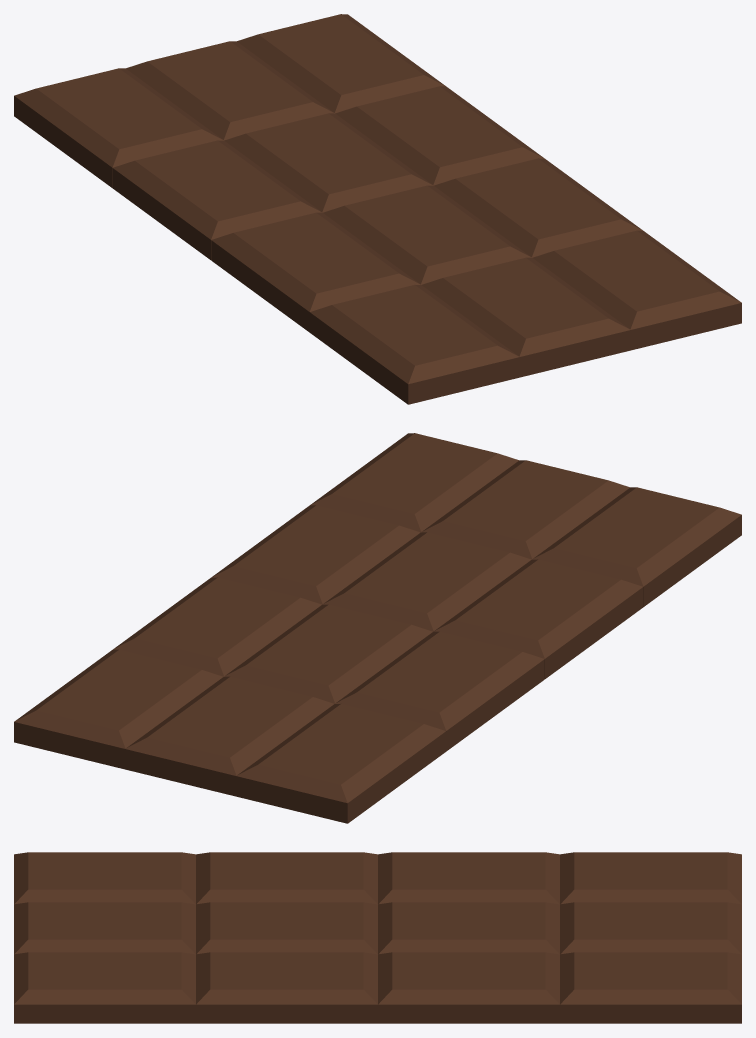
The model's file is Chocolate.fbx.
3 views of the same model, one above another, from view 1: azimuth 30°, elevation 25°; view 2: azimuth 150°, elevation 25°; view 3: azimuth 270°, elevation 25° (orthographic). The views are drawn at different scales.
Visible parts, largest first — view 1: Cube.006, Cube.005, Cube.004, Cube.007, Cube.001, Cube.012, Cube.008, Cube.002, Cube.011, Cube.003, Cube.009, Cube.010; view 2: Cube.012, Cube.010, Cube.011, Cube.001, Cube.006, Cube.007, Cube.002, Cube.008, Cube.005, Cube.004, Cube.009, Cube.003; view 3: Cube.002, Cube.005, Cube.008, Cube.011, Cube.004, Cube.010, Cube.001, Cube.003, Cube.006, Cube.007, Cube.009, Cube.012.
Boxes of the visible parts, x1,y1,x2,y2 form: Cube.006: [309, 285, 519, 404]; Cube.005: [532, 230, 741, 350]; Cube.004: [422, 257, 630, 377]; Cube.007: [112, 140, 321, 259]; Cube.001: [211, 212, 420, 332]; Cube.012: [14, 68, 223, 187]; Cube.008: [335, 86, 544, 185]; Cube.002: [434, 158, 642, 257]; Cube.011: [237, 14, 445, 113]; Cube.003: [323, 185, 531, 284]; Cube.009: [224, 113, 432, 212]; Cube.010: [126, 41, 334, 140]; Cube.012: [236, 704, 446, 823]; Cube.010: [125, 676, 333, 796]; Cube.011: [14, 649, 223, 769]; Cube.001: [434, 559, 643, 678]; Cube.006: [532, 487, 741, 606]; Cube.007: [335, 631, 544, 751]; Cube.002: [211, 505, 420, 604]; Cube.008: [113, 577, 321, 676]; Cube.005: [310, 433, 518, 532]; Cube.004: [421, 460, 629, 559]; Cube.009: [224, 604, 432, 703]; Cube.003: [323, 532, 531, 631]; Cube.002: [196, 952, 377, 1023]; Cube.005: [14, 952, 195, 1023]; Cube.008: [378, 952, 559, 1023]; Cube.011: [560, 952, 741, 1023]; Cube.004: [14, 902, 195, 954]; Cube.010: [560, 902, 741, 954]; Cube.001: [196, 852, 377, 904]; Cube.003: [196, 902, 377, 954]; Cube.006: [14, 852, 195, 904]; Cube.007: [378, 852, 559, 904]; Cube.009: [378, 902, 559, 954]; Cube.012: [560, 852, 741, 904].
Size of the model in its own units: 391 by 33.39 by 800.
